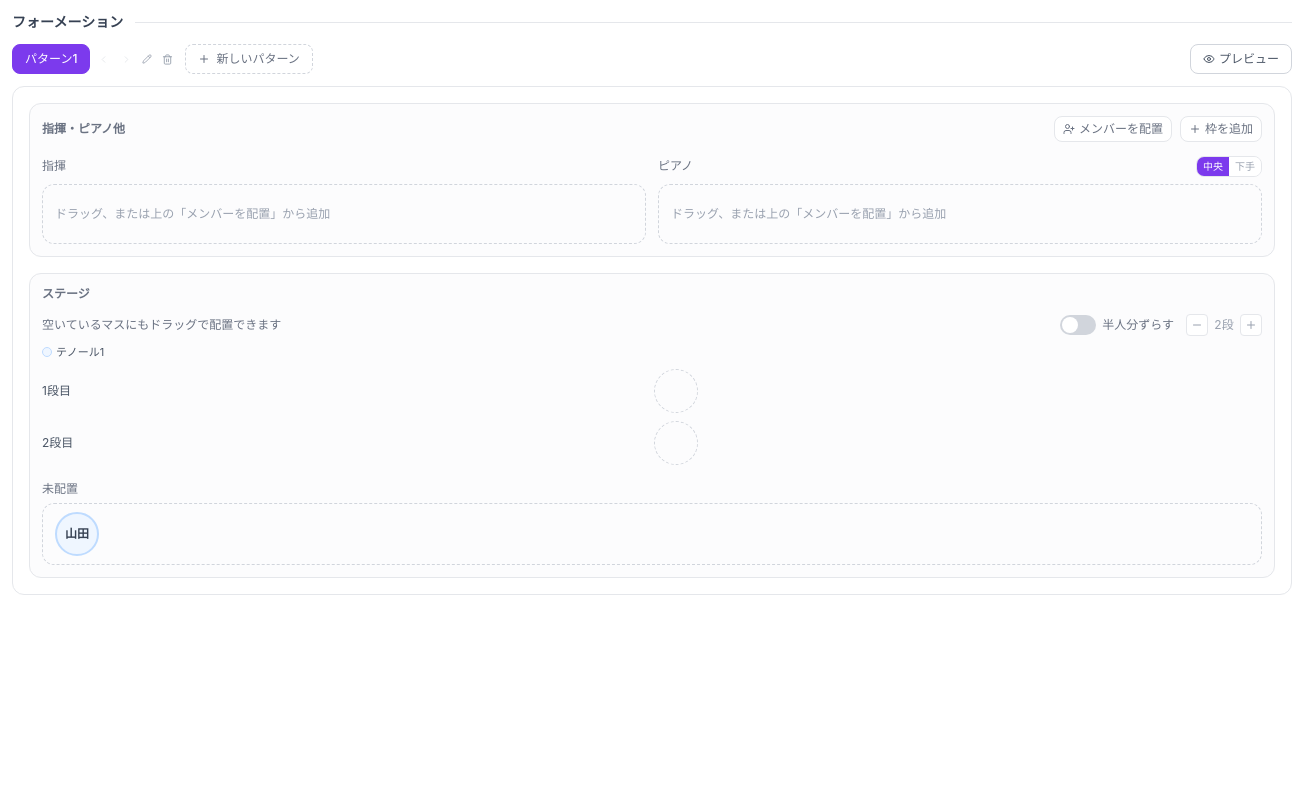
Test: OnstageTab（パターンCRUD） › パターン名の保存に失敗したら、入力欄の下に理由を出して入力を残す
Click the button named "パターン1を編集". click: (147, 59)
box: top-left (140, 52), bottom-right (154, 66)
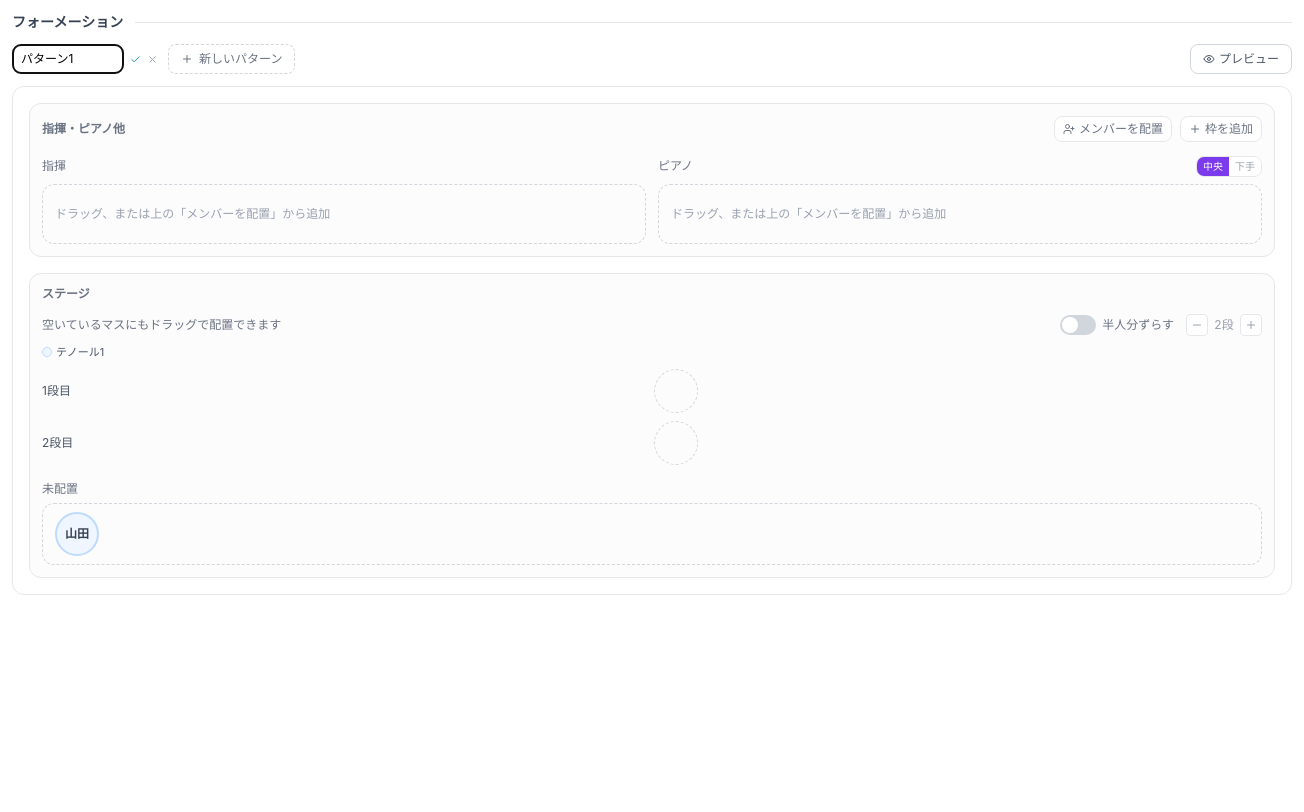
Type "X" into the field named "パターン名". click: (68, 59)
box: top-left (12, 44), bottom-right (124, 74)
Then press Enter
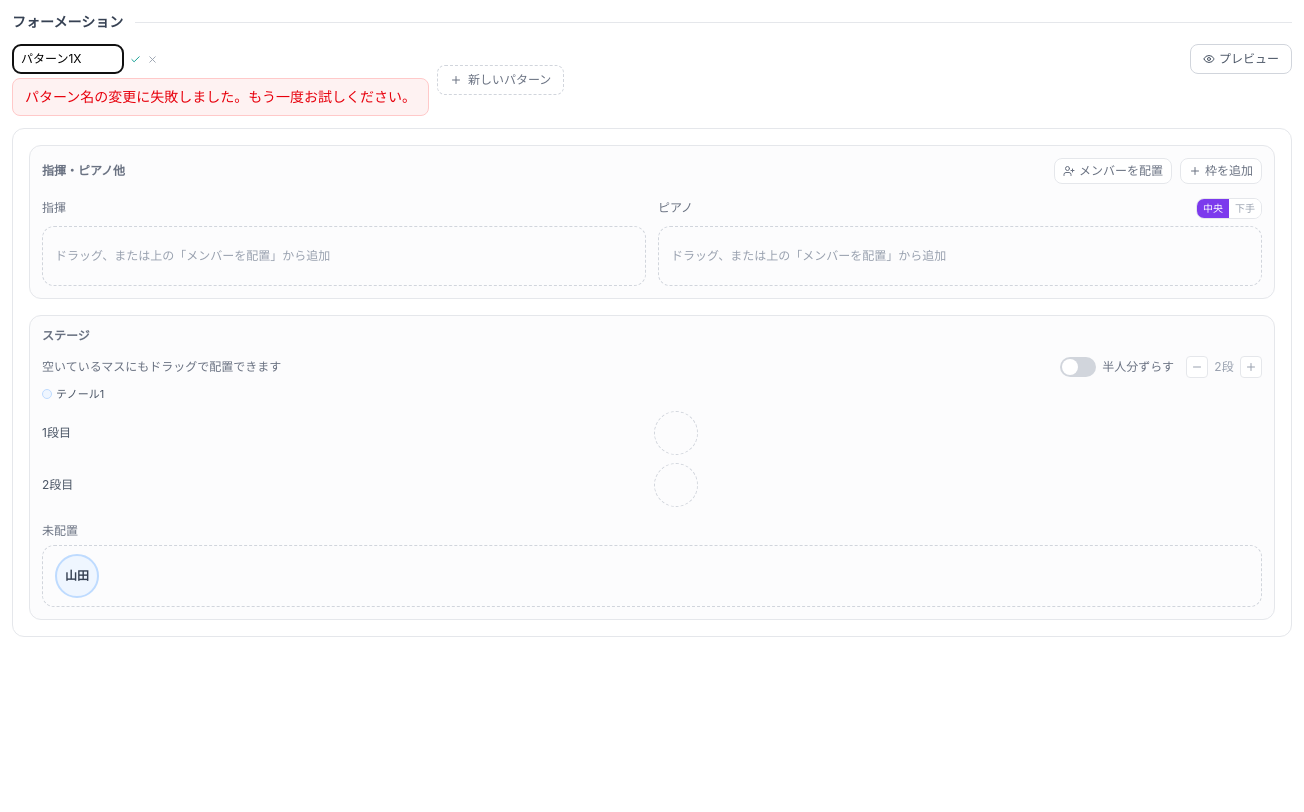
Result: the message reads "パターン名の変更に失敗しました。もう一度お試しください。" at top-left (25, 88), bottom-right (416, 105)
Result: the field named "パターン名" holds "パターン1X" at top-left (12, 44), bottom-right (124, 74)
